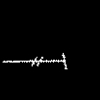treble_crochet: (4, 53, 66, 68)
